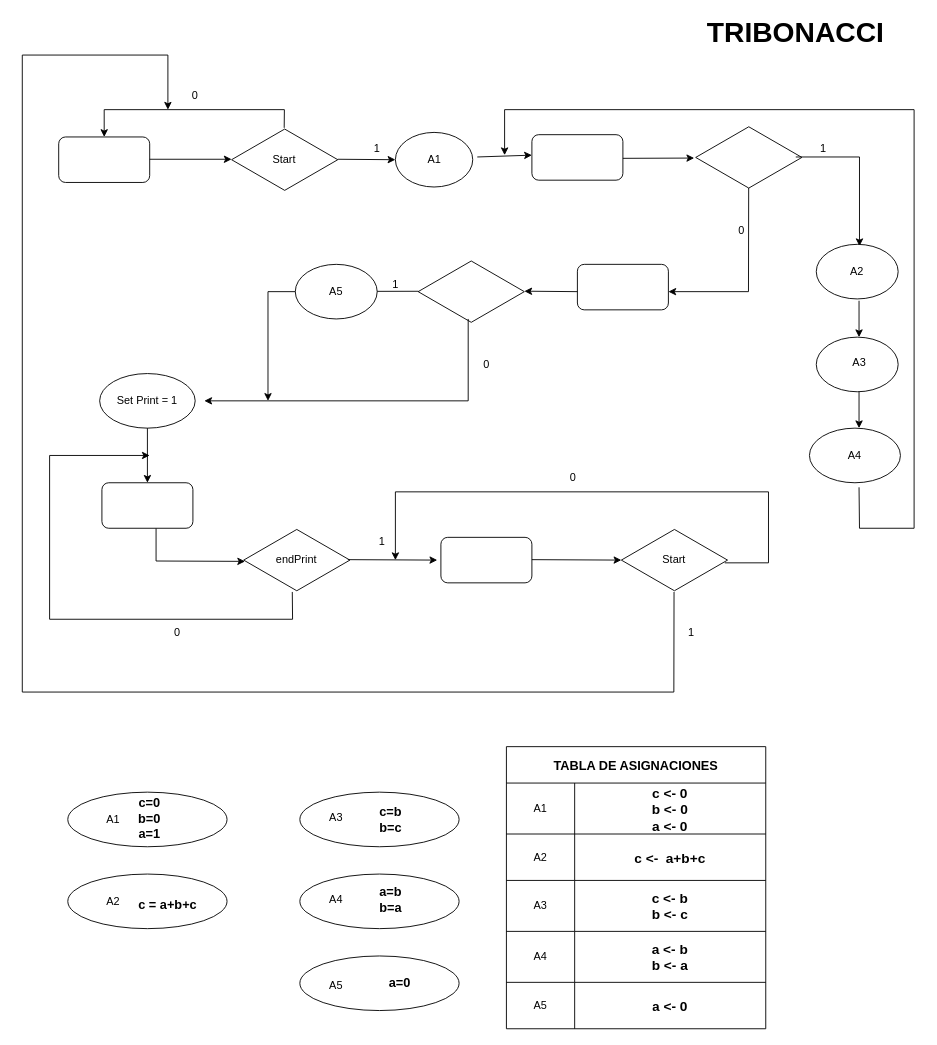
This 937x1045 diagram has some shape labels left out. The shapes that lost their labels are listed below. From the top down, each one's centre as x and y in pixels, then its label:
pixel 104 159: IDLE
pixel 577 157: WHILE
pixel 748 157: n>=3
pixel 470 291: n<2
pixel 486 559: END
